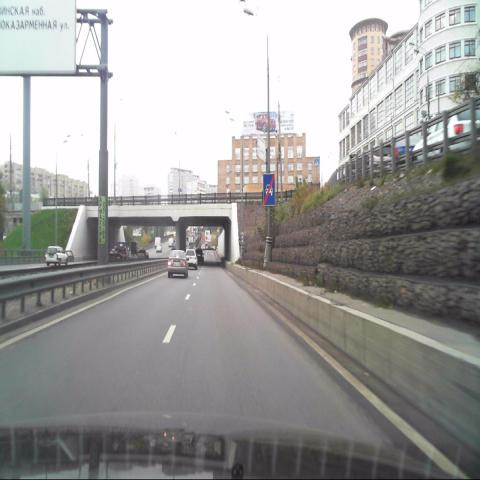5_4: (263, 174, 275, 206)
